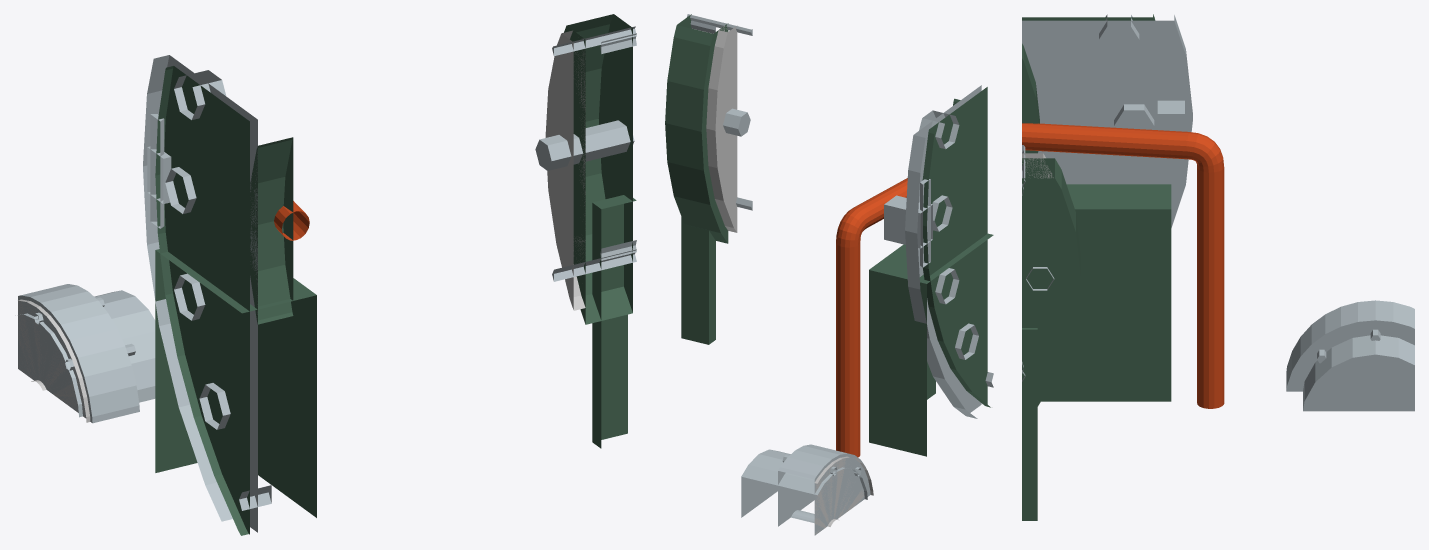
Rendered from cell_32.obj.
3 renders of one model, left to right at view 1: azimuth 30°, elevation 25°; view 2: azimuth 150°, elevation 25°; view 3: azimuth 270°, elevation 25°, orthographic. The views are drawn at different scales.
Bounding box in the file's own units: 1 × 1 × 1.
